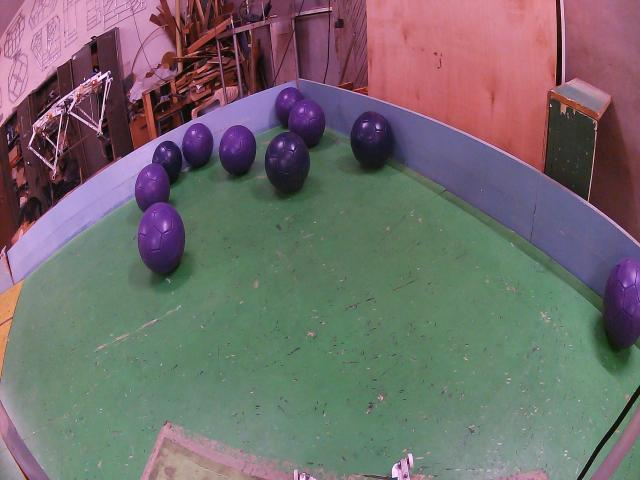jambhalya: (138, 202, 185, 273), (604, 258, 640, 348), (219, 125, 256, 175), (288, 98, 325, 147), (135, 163, 170, 212), (182, 123, 214, 167), (275, 87, 302, 127)
kaalyya: (265, 132, 310, 192), (350, 112, 392, 168), (152, 140, 182, 182)
